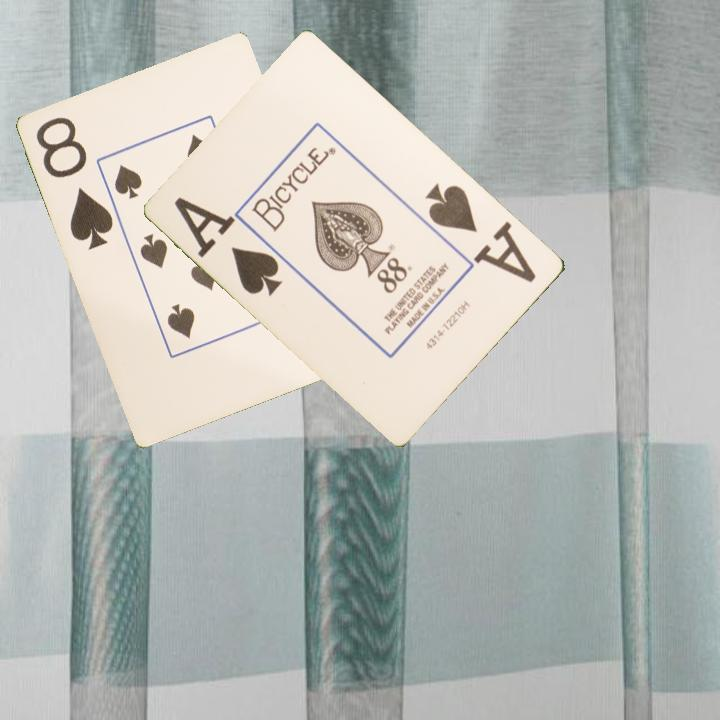8s: (32, 113, 117, 254)
As: (171, 193, 286, 299), (423, 179, 528, 275)
